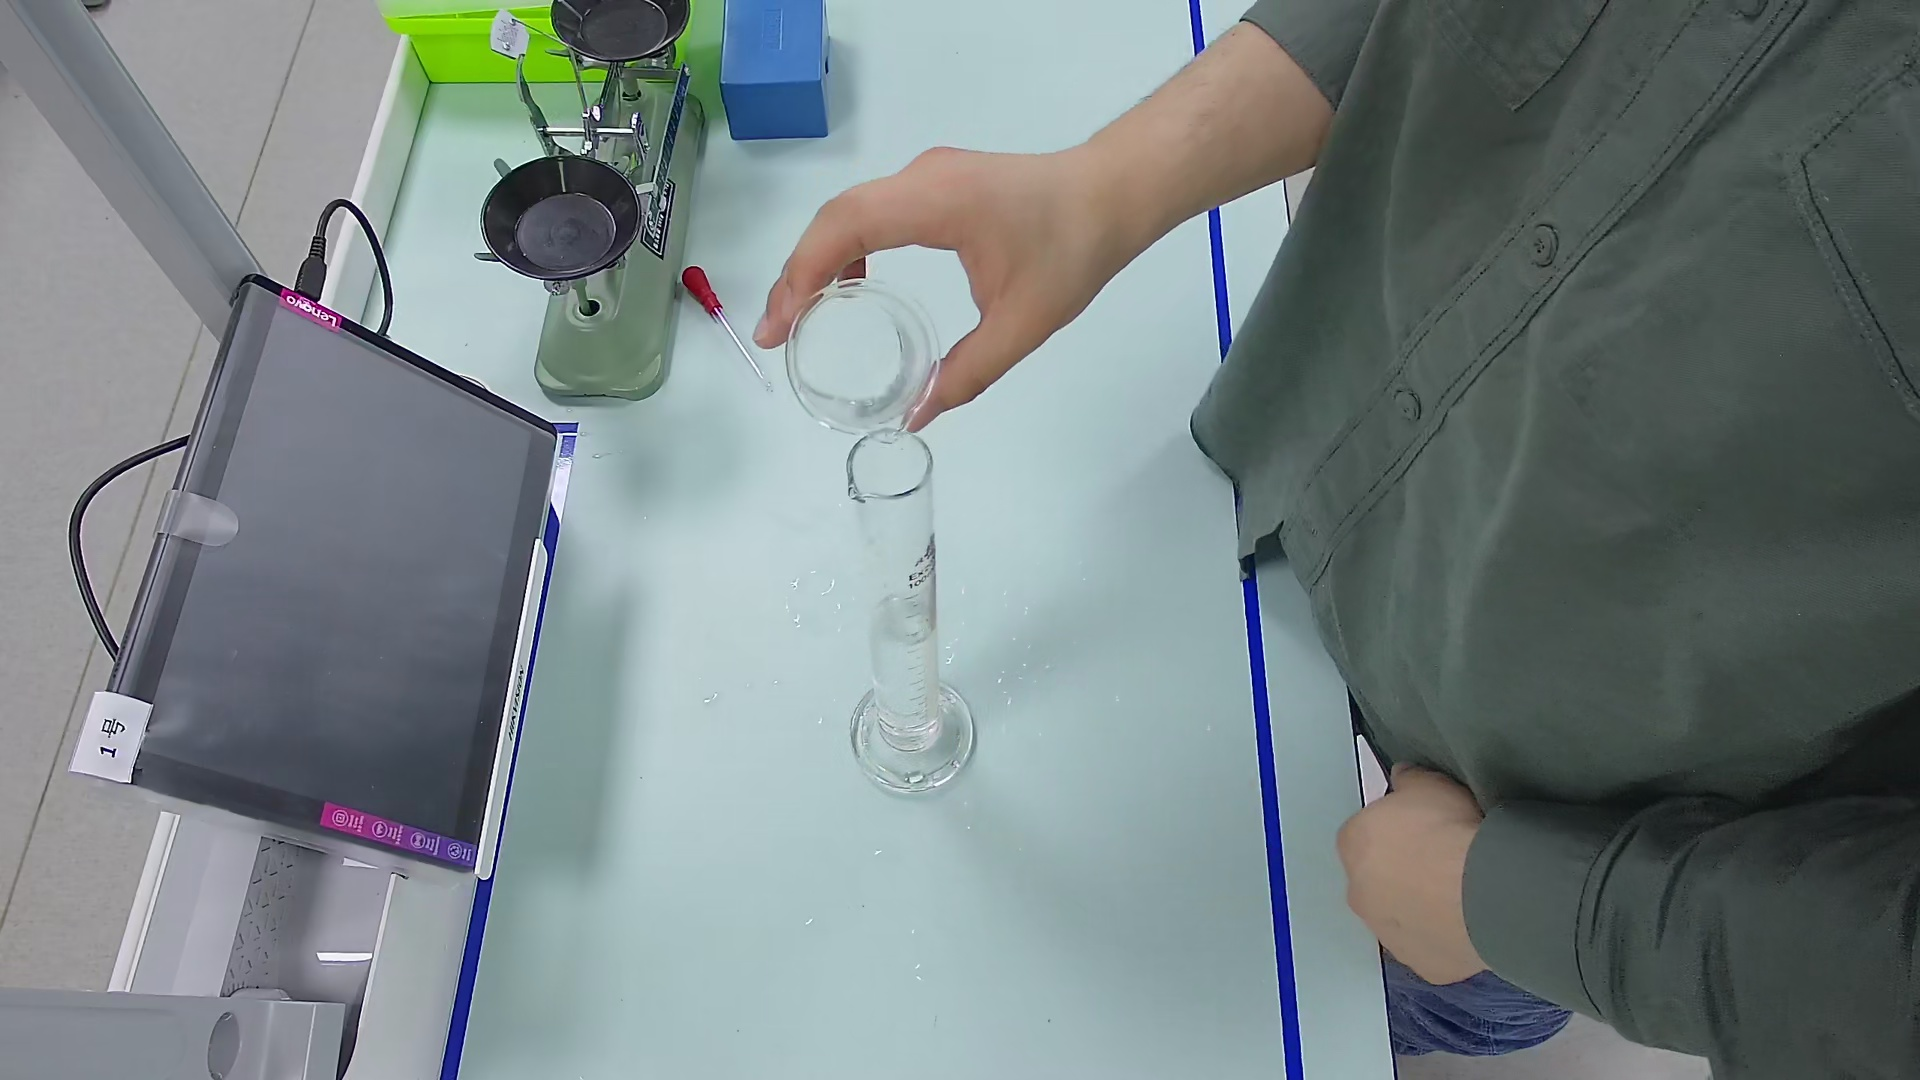ao: (872, 593, 942, 642)
bei: (773, 276, 953, 440)
diguan: (676, 256, 773, 396)
diguantou: (680, 260, 723, 322)
hand: (777, 138, 1076, 401), (1313, 767, 1498, 977)
liangdi: (843, 676, 980, 794)
liangtong: (839, 430, 985, 804)
tuo: (471, 157, 649, 284), (541, 1, 698, 65)
